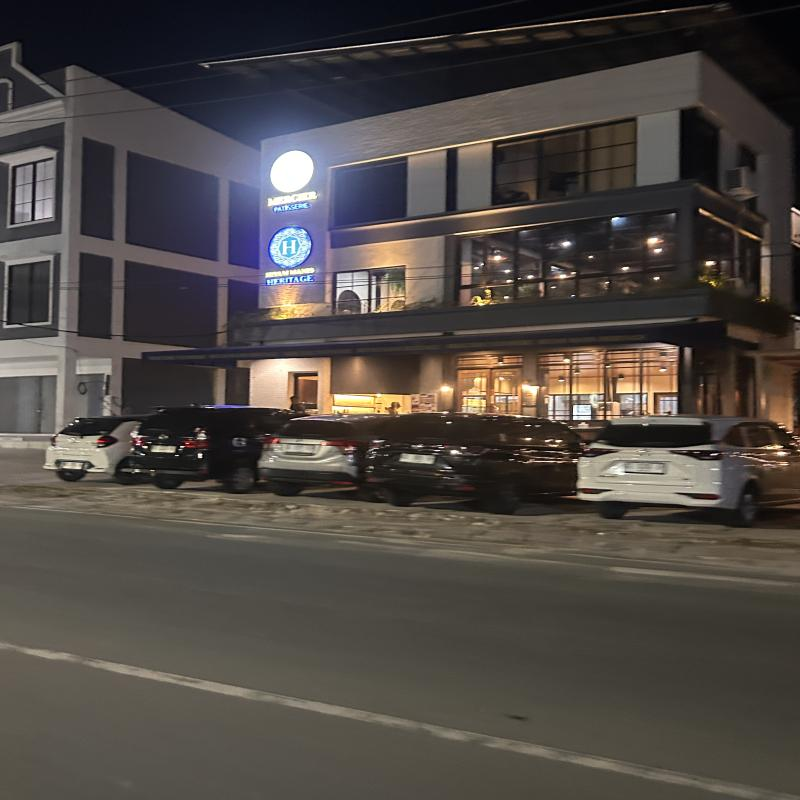license plate on a car: (390, 449, 449, 474), (624, 456, 666, 481), (281, 441, 322, 455), (149, 443, 181, 456), (58, 459, 87, 473)
